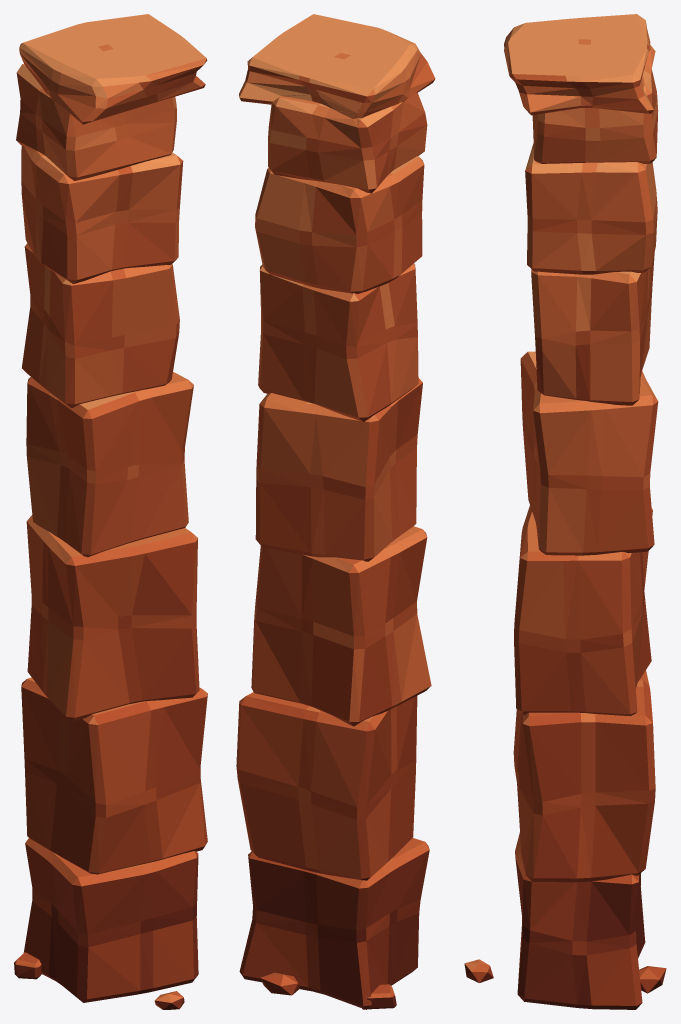
The model's file is SM_ROCK_PILLAR_02.fbx.
The picture shows the model from 3 angles, left to right: view 1: azimuth 30°, elevation 25°; view 2: azimuth 150°, elevation 25°; view 3: azimuth 270°, elevation 25°; orthographic projection.
Visible parts, largest first — view 1: ROCK_PILLAR_02; view 2: ROCK_PILLAR_02; view 3: ROCK_PILLAR_02.
Boxes of the visible parts, left/top/right/bottom form: ROCK_PILLAR_02: left=14, top=14, right=207, bottom=1009; ROCK_PILLAR_02: left=236, top=14, right=435, bottom=1009; ROCK_PILLAR_02: left=464, top=14, right=666, bottom=1009.
Size of the model in its own units: 1.44 by 1.67 by 8.52.
